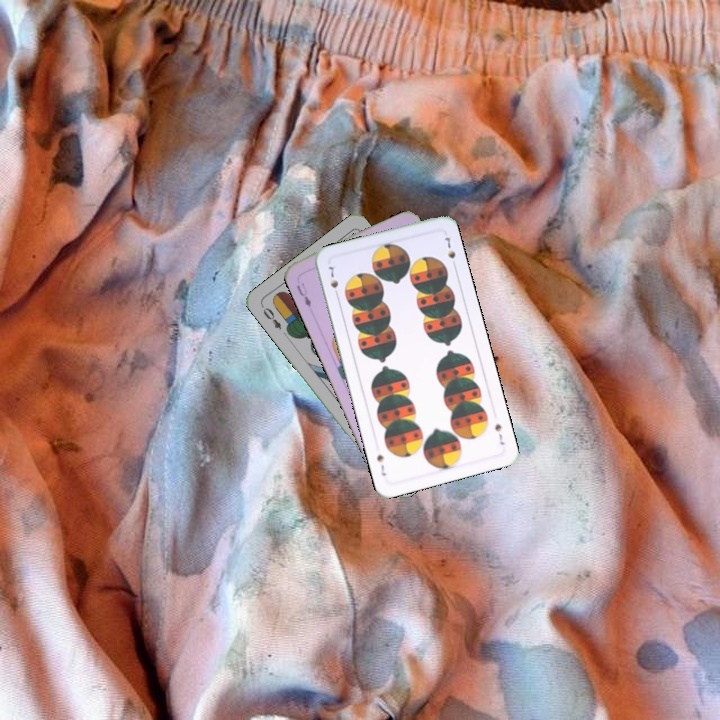EO: (257, 301, 284, 332)
EU: (293, 278, 314, 310)
S7: (324, 262, 341, 300), (490, 420, 507, 448)
